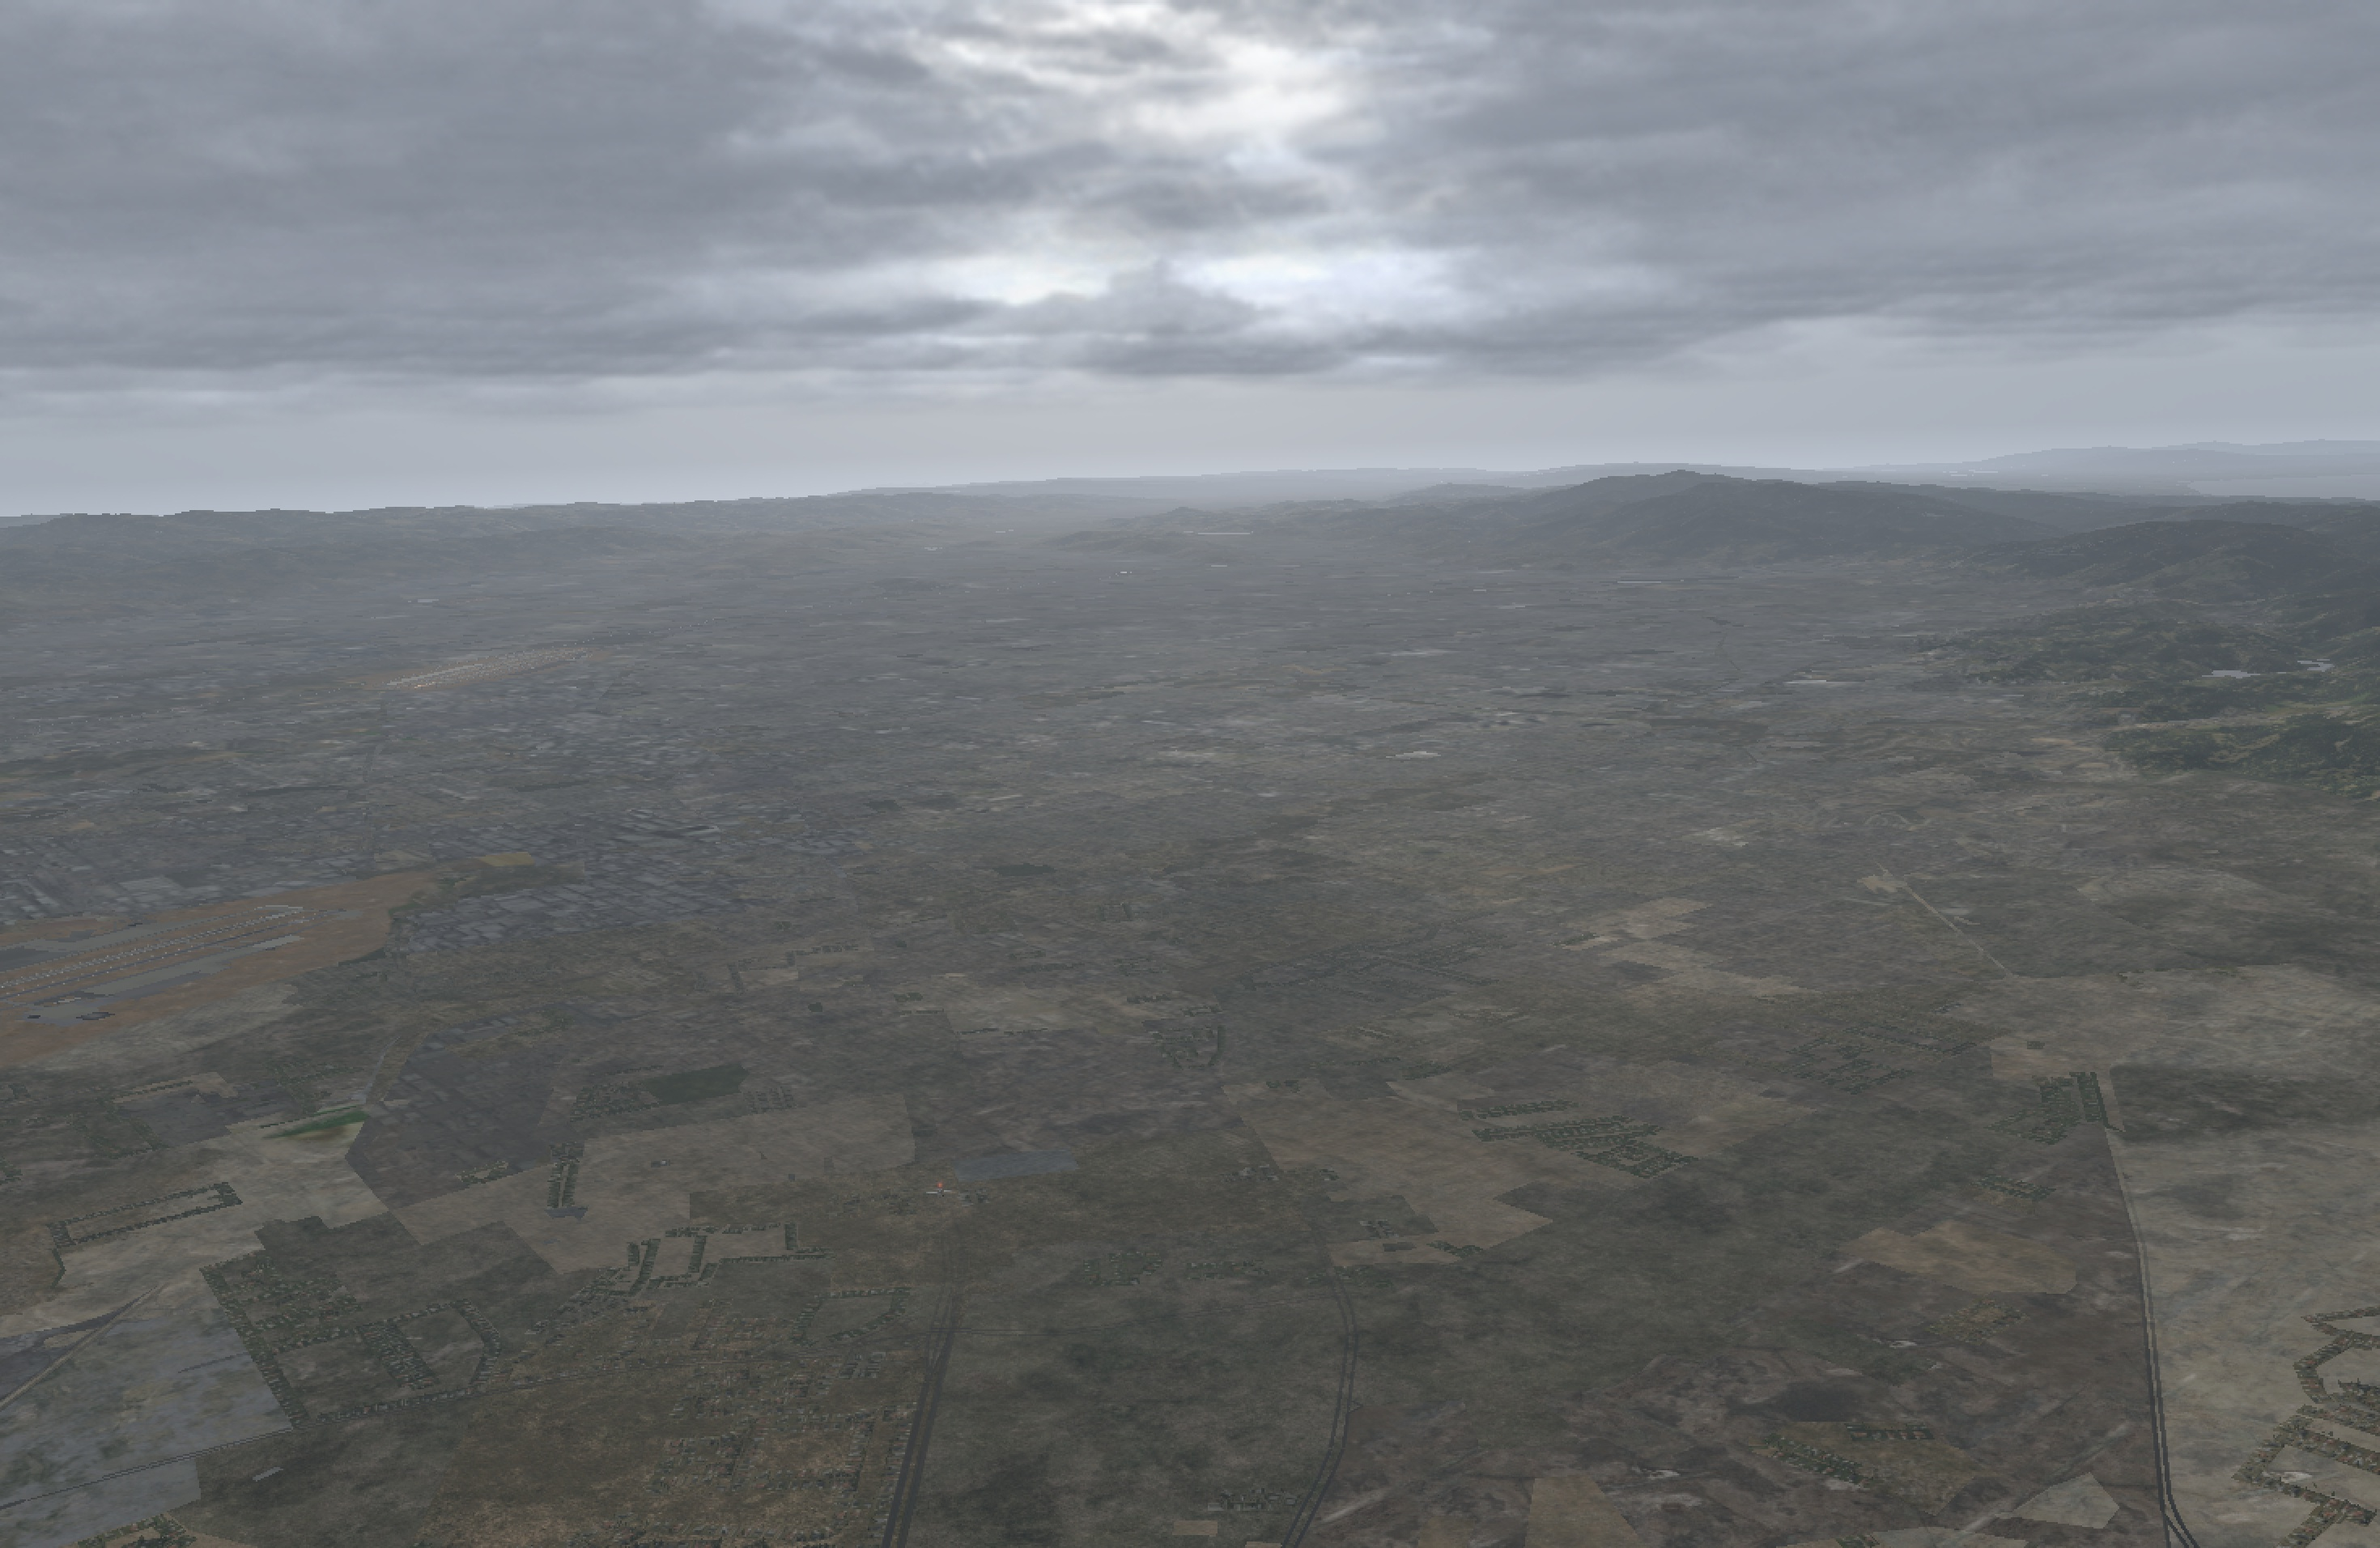aircraft: (932, 1191, 949, 1197)
